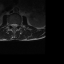CCS_normal: (13, 22, 15, 29)
LFS_normal: (17, 22, 19, 27)
LLS_normal: (15, 22, 17, 28)
RFS_normal: (9, 22, 11, 27)
RLS_normal: (11, 22, 13, 28)
